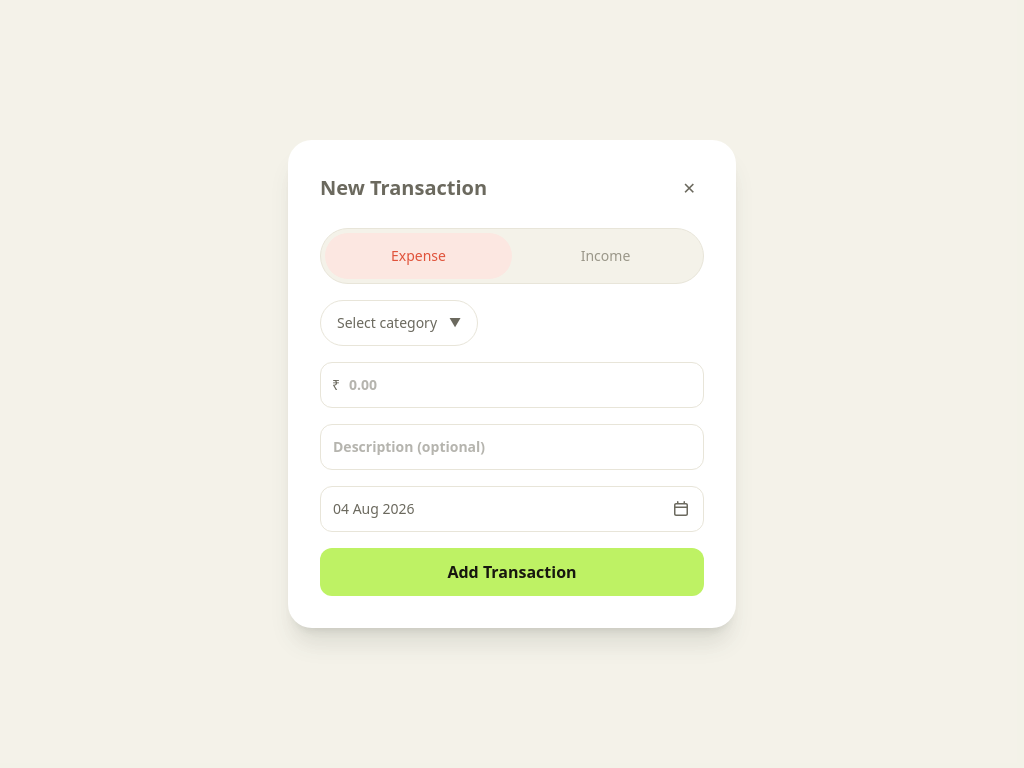
Test: TransactionModal validation › requires a category before submitting
Type "100" into the number field with placeholder "0.00" at (512, 385), box [320,362,704,408]
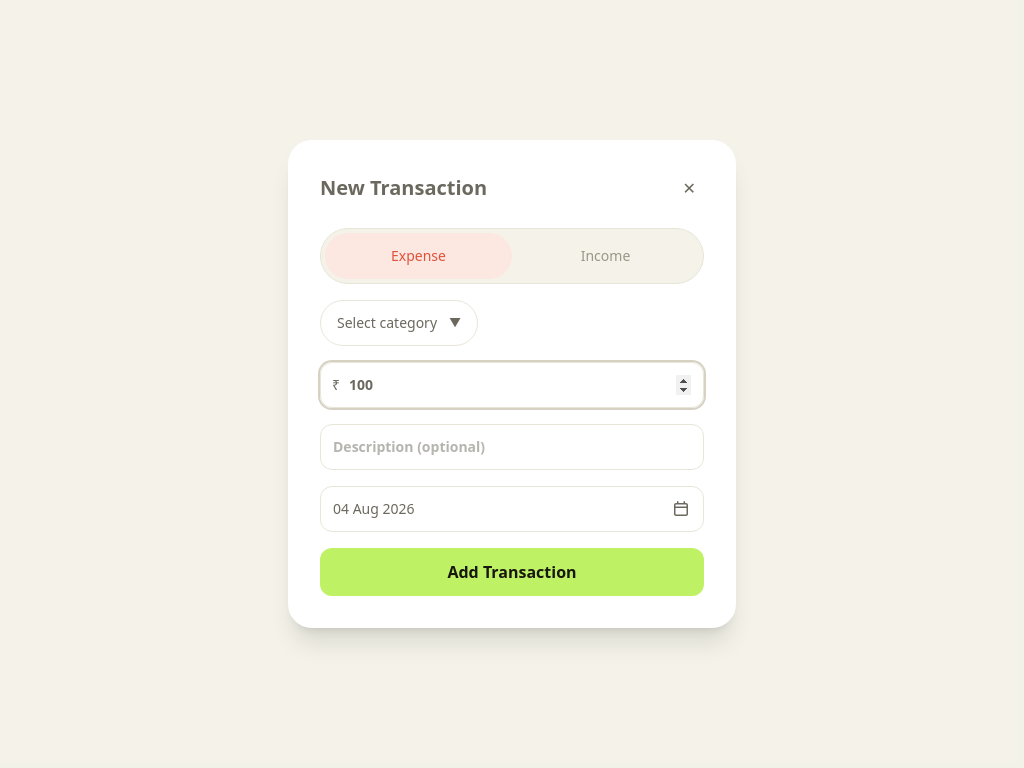
Click the button "Add Transaction" at (512, 572), box [320,548,704,596]
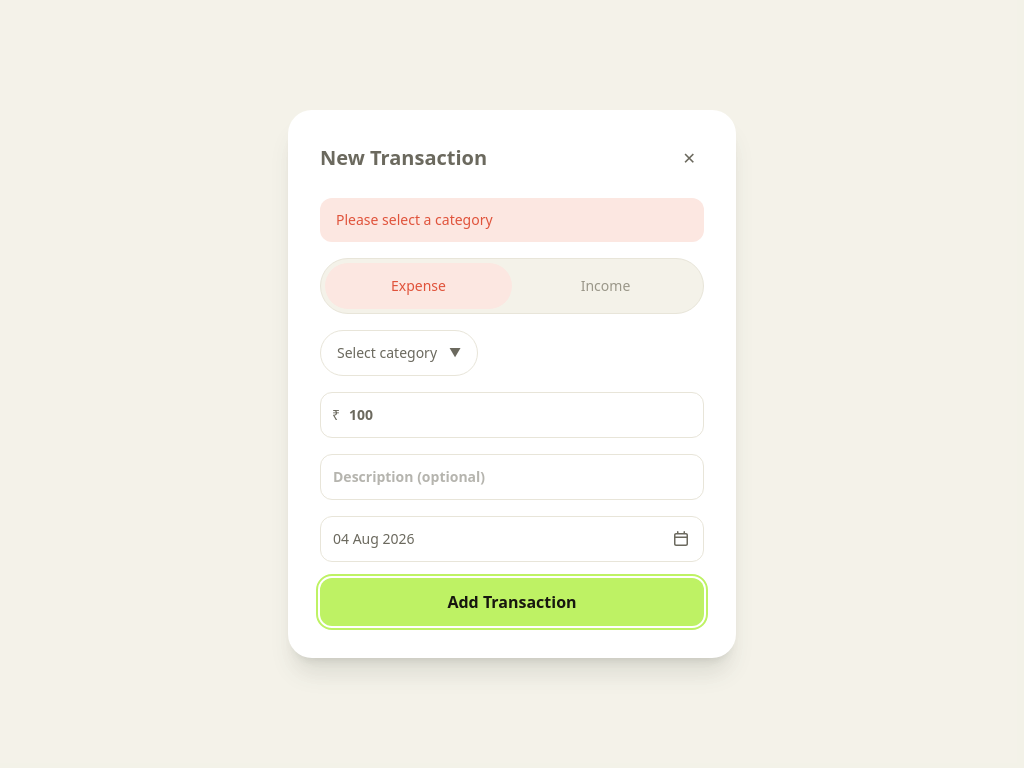
Now the text "Please select a category" is shown, box [320,198,704,242]
